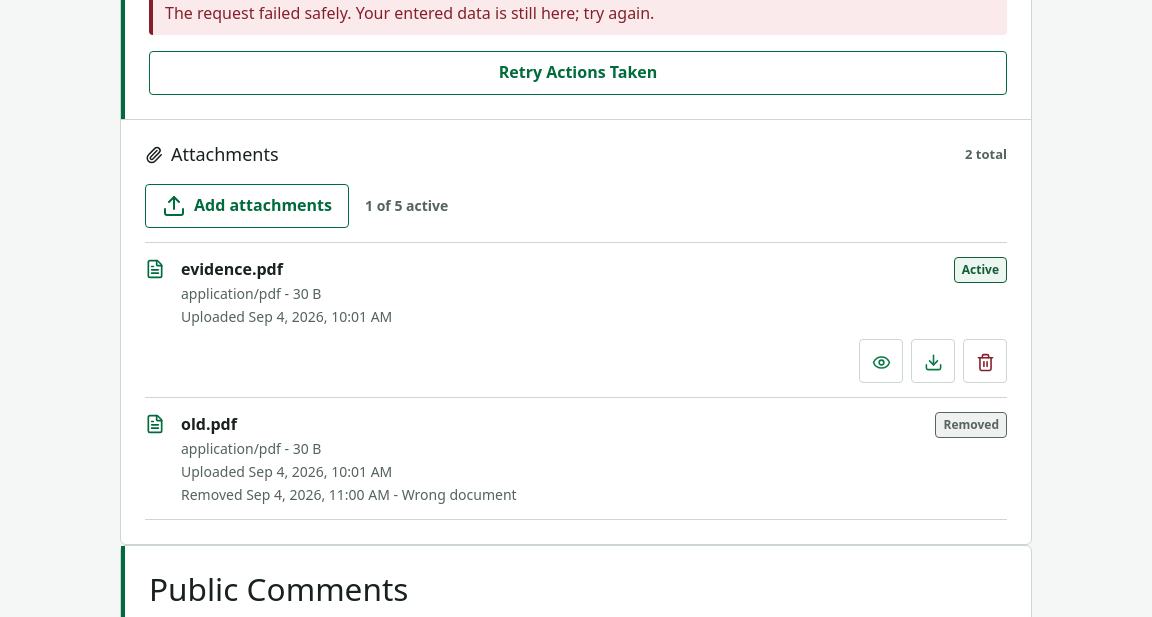
Ticket Detail attachment section › reports a blocked preview without requesting protected content
This screenshot has width=1152, height=617.
(page scrolled)
Click the button named "Preview evidence.pdf" at [881, 360], box top-left (859, 338), bottom-right (903, 382)
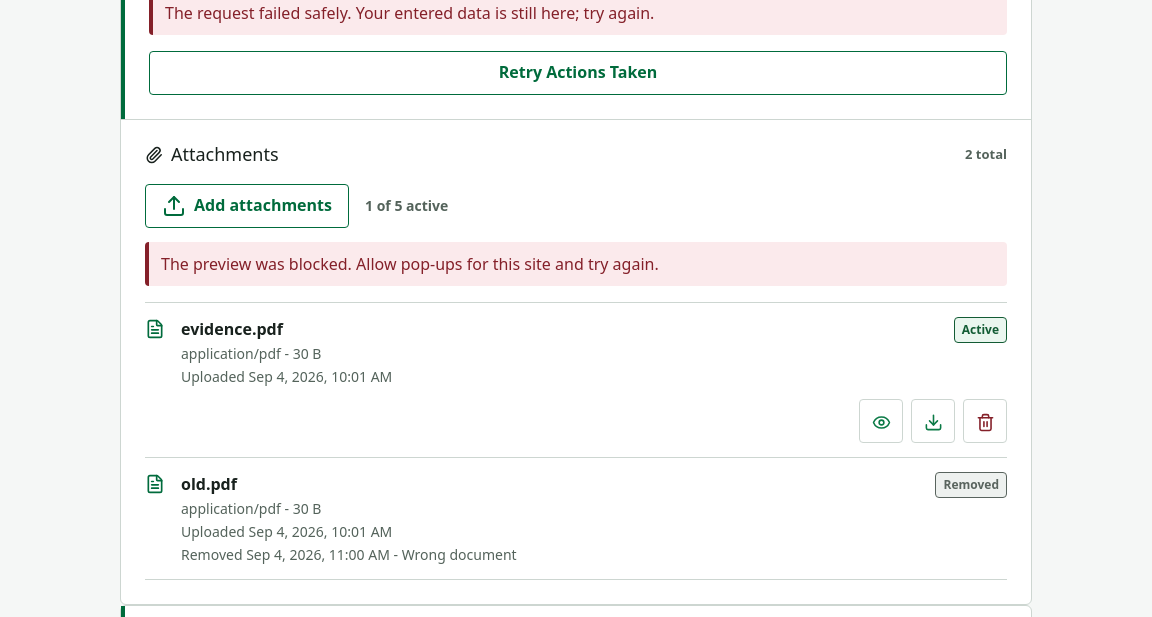
Expected: the message "The preview was blocked. Allow pop-ups for this site and try again." is shown, top-left (145, 242), bottom-right (1007, 286)
